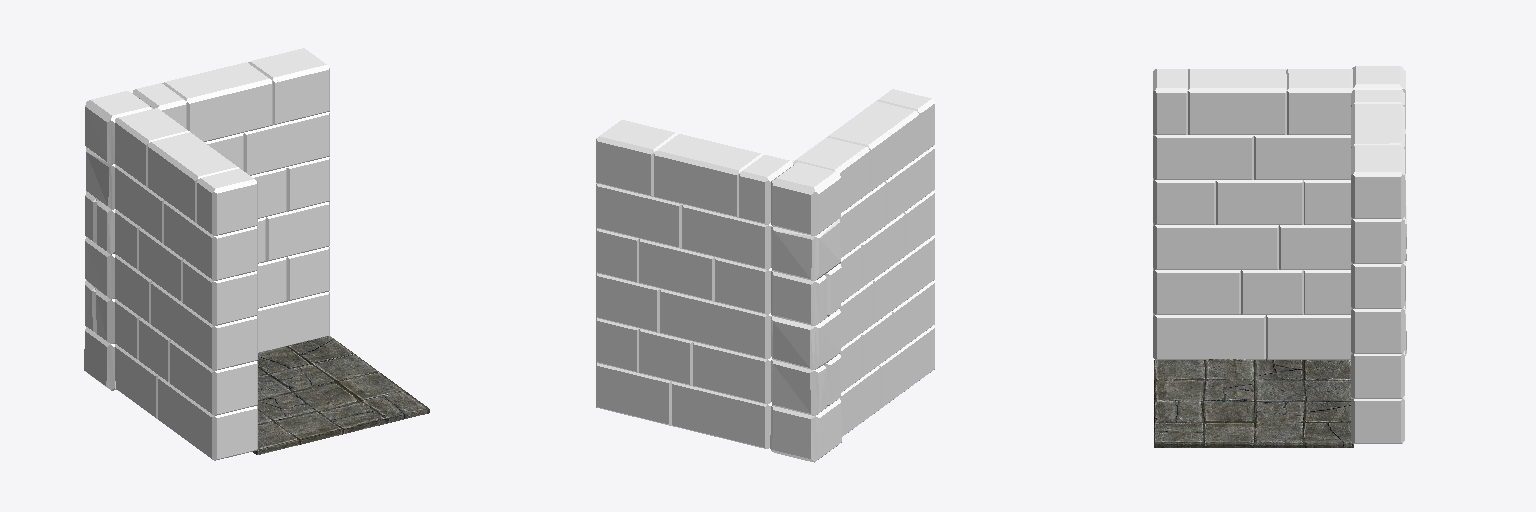
3 views of the same model, side by side, from view 1: azimuth 30°, elevation 25°; view 2: azimuth 150°, elevation 25°; view 3: azimuth 270°, elevation 25° (orthographic).
Visible parts, largest first — view 1: Box4139, Box4132, Box4141, Box4145; view 2: Box4132, Box4139, Box4145; view 3: Box4139, Box4132, Box4141, Box4145.
Part boxes in pixels (bbox=[...]): Box4139: bbox=[115, 108, 257, 460]; Box4132: bbox=[133, 48, 329, 352]; Box4141: bbox=[253, 336, 429, 454]; Box4145: bbox=[84, 91, 152, 390]; Box4132: bbox=[596, 120, 792, 448]; Box4139: bbox=[793, 89, 934, 436]; Box4145: bbox=[770, 162, 841, 462]; Box4139: bbox=[1153, 69, 1353, 359]; Box4132: bbox=[1351, 90, 1404, 443]; Box4141: bbox=[1154, 359, 1353, 447]; Box4145: bbox=[1352, 66, 1406, 355].
Bounding box in the file's own units: 2.61 × 3.08 × 2.57.
2 materials, 1 textured.